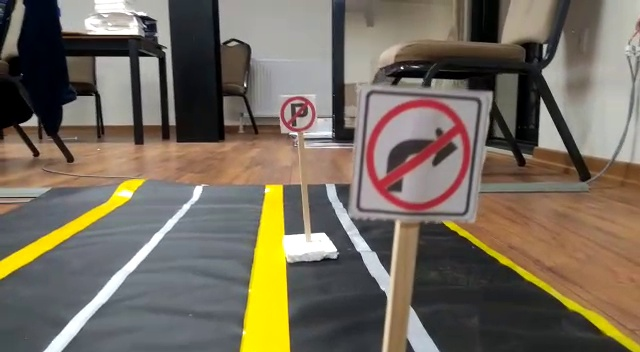park_yapilmaz: (279, 93, 317, 131)
saga_donulmez: (359, 92, 477, 216)
